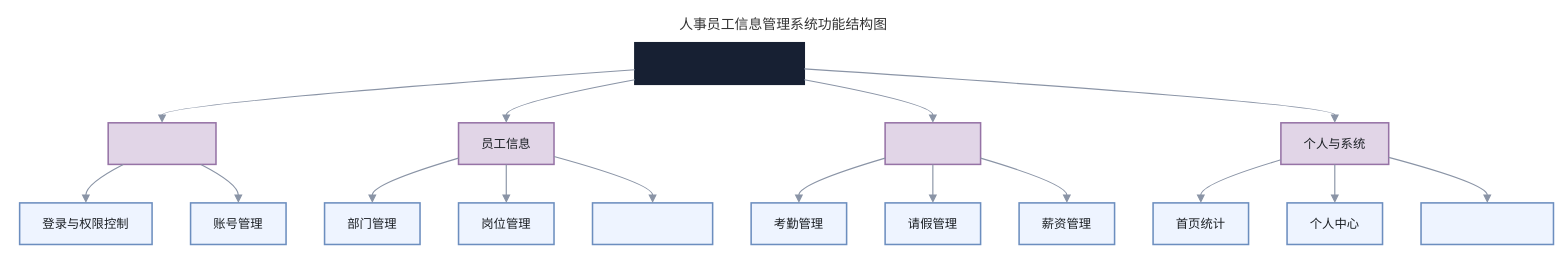
Some shapes in this 1567 by 258 pixel diagram are drawn without their labels. Here are the shapes that lost their labels. From the top down, the centre of each, then its label:
At [719,63]: "人事员工信息管理系统".
At [161,143]: "账号与权限".
At [932,143]: "人事业务".
At [652,223]: "员工档案管理".
At [1487,223]: "异常与错误页面".
